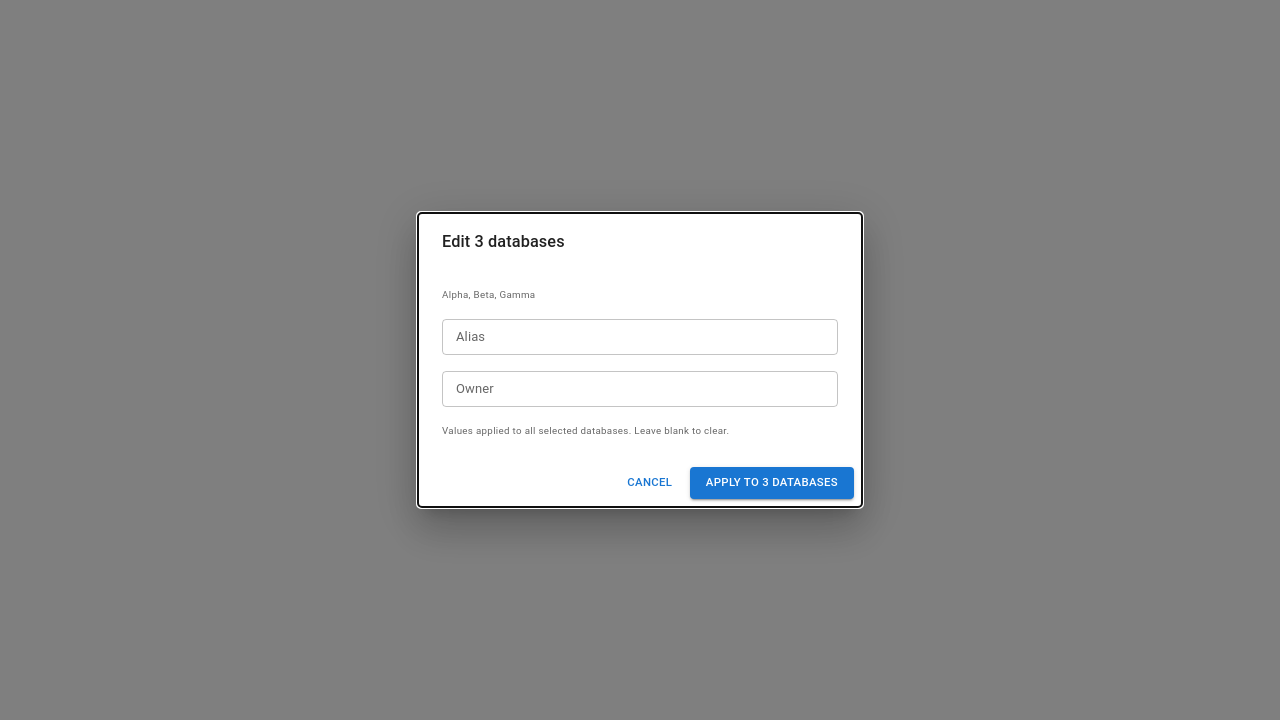
it: DbBulkEditDialog › resets confirm state when alias field is edited after both-empty click
Click the button with test id "apply-btn": click(772, 483) [690,467,854,499]
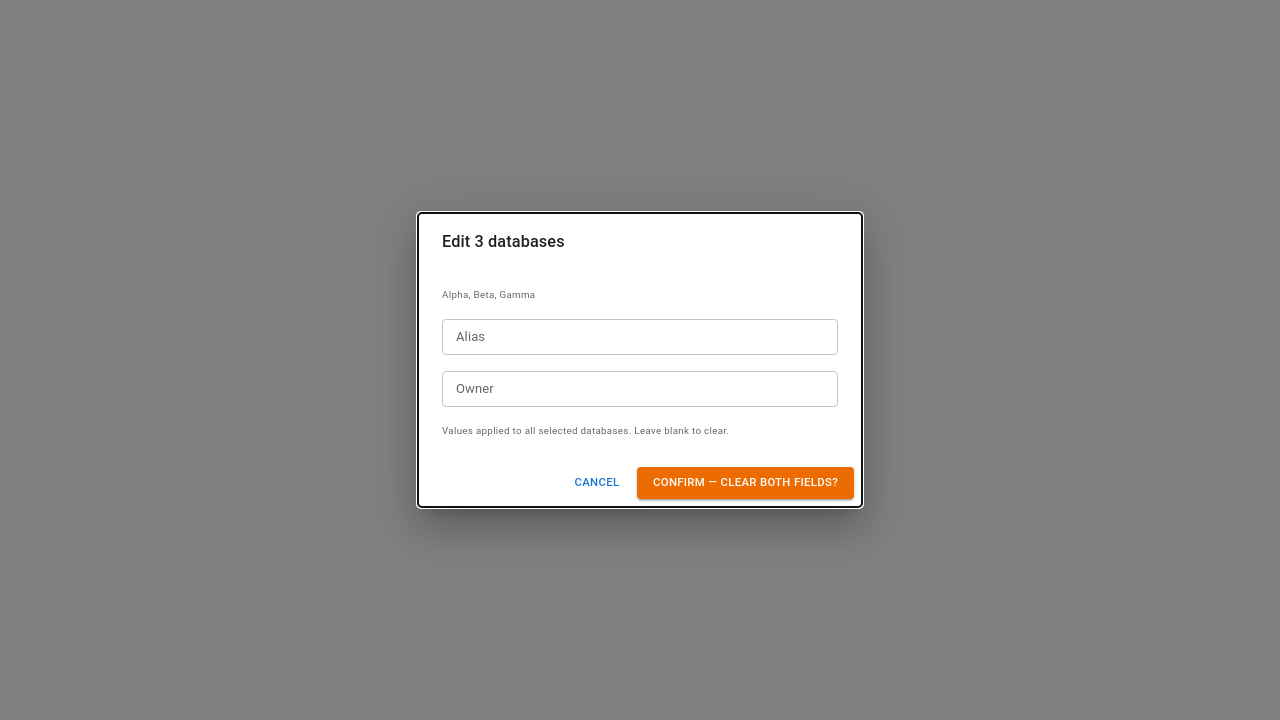
Expected: the button with test id "apply-btn" shows "Confirm", [637,467,854,499]
In the dropdown with test id "alias-input": (624, 337) [448,325,799,349], type "x"
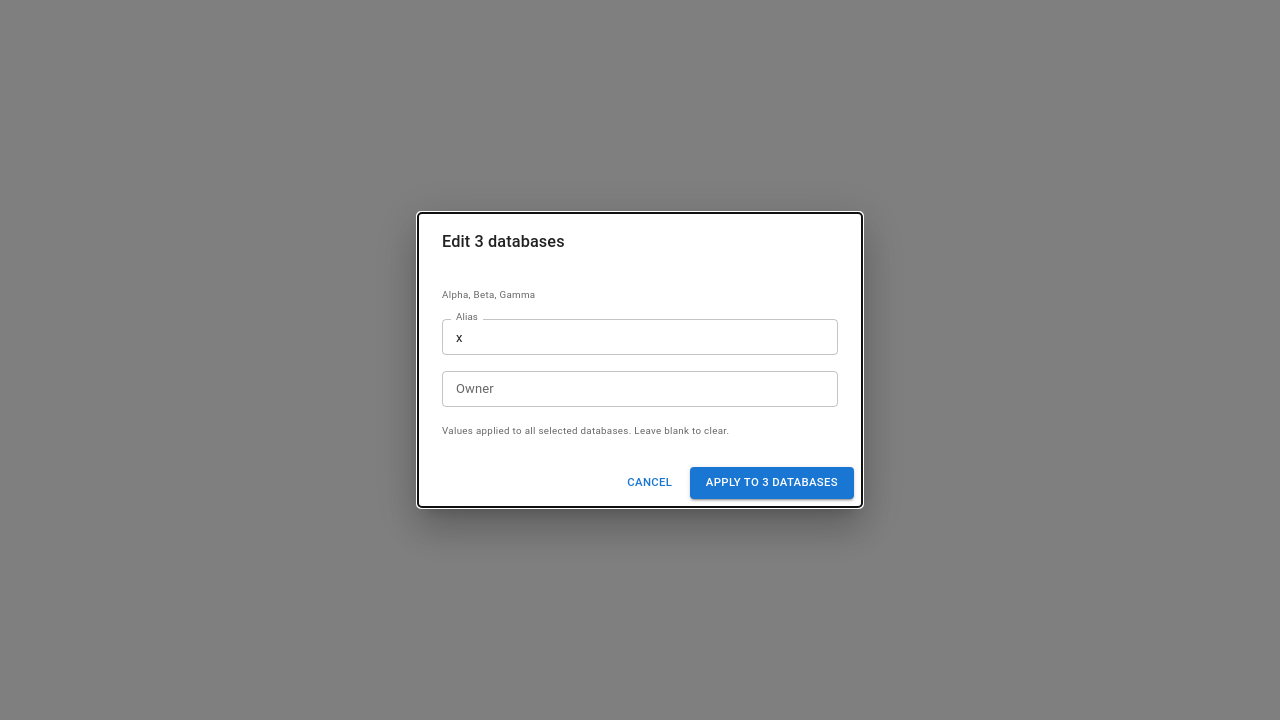
Expected: the button with test id "apply-btn" shows "Apply to 3", [690,467,854,499]
